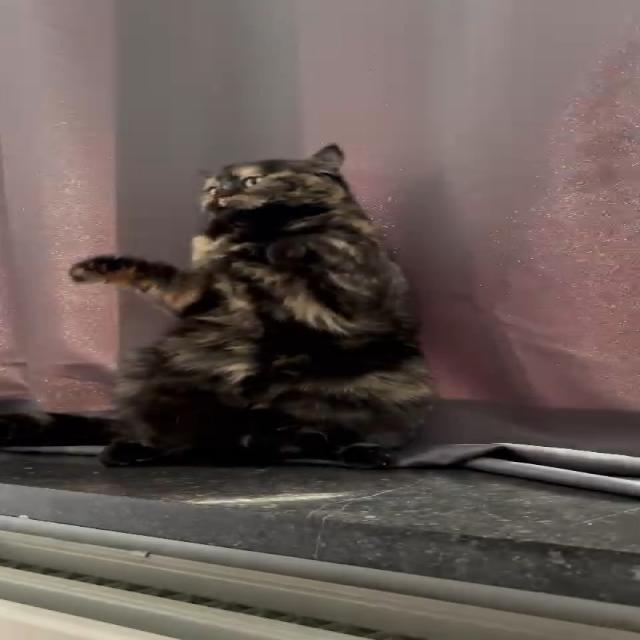authorized: (67, 142, 437, 468)
